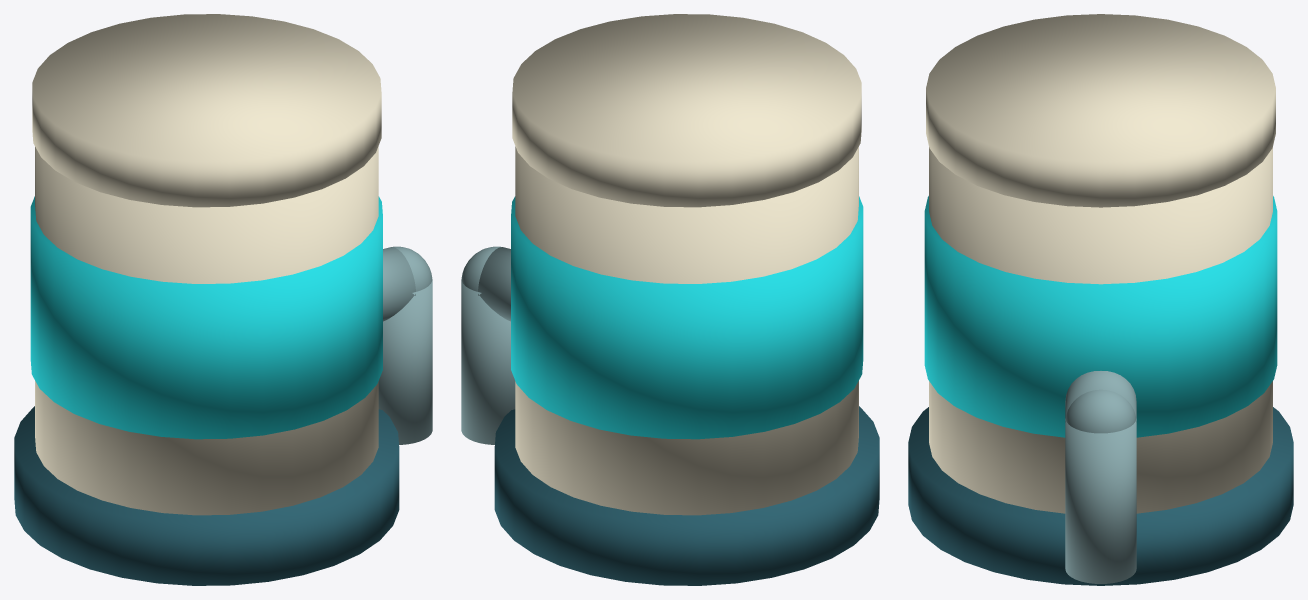
Rendered from refinery.glb.
3 renders of one model, left to right at view 1: azimuth 30°, elevation 25°; view 2: azimuth 150°, elevation 25°; view 3: azimuth 270°, elevation 25°, orthographic.
Visible parts, largest first — view 1: Refinery lid, Refinery glass, Refinery tank, Refinery base, Refinery pipe, Refinery pipe connection, Pipe elbow; view 2: Refinery lid, Refinery glass, Refinery tank, Refinery base, Refinery pipe, Refinery pipe connection, Pipe elbow; view 3: Refinery lid, Refinery glass, Refinery tank, Refinery base, Refinery pipe, Pipe elbow, Refinery pipe connection.
Part boxes in pixels (bbox=[...]): Refinery lid: bbox=[32, 14, 381, 207]; Refinery glass: bbox=[30, 196, 382, 439]; Refinery tank: bbox=[35, 146, 378, 515]; Refinery base: bbox=[14, 406, 399, 585]; Refinery pipe: bbox=[378, 277, 432, 444]; Refinery pipe connection: bbox=[383, 247, 415, 321]; Pipe elbow: bbox=[392, 246, 432, 291]; Refinery lid: bbox=[512, 14, 861, 207]; Refinery glass: bbox=[511, 196, 863, 439]; Refinery tank: bbox=[515, 146, 858, 515]; Refinery base: bbox=[494, 406, 879, 585]; Refinery pipe: bbox=[461, 277, 515, 444]; Refinery pipe connection: bbox=[478, 247, 510, 321]; Pipe elbow: bbox=[461, 246, 501, 291]; Refinery lid: bbox=[926, 14, 1275, 207]; Refinery glass: bbox=[924, 196, 1277, 437]; Refinery tank: bbox=[929, 147, 1272, 513]; Refinery base: bbox=[908, 407, 1293, 585]; Refinery pipe: bbox=[1065, 418, 1136, 583]; Pipe elbow: bbox=[1066, 389, 1135, 433]; Refinery pipe connection: bbox=[1065, 371, 1136, 422].
Bounding box in the file's own units: 1.51 × 1.55 × 1.3.
